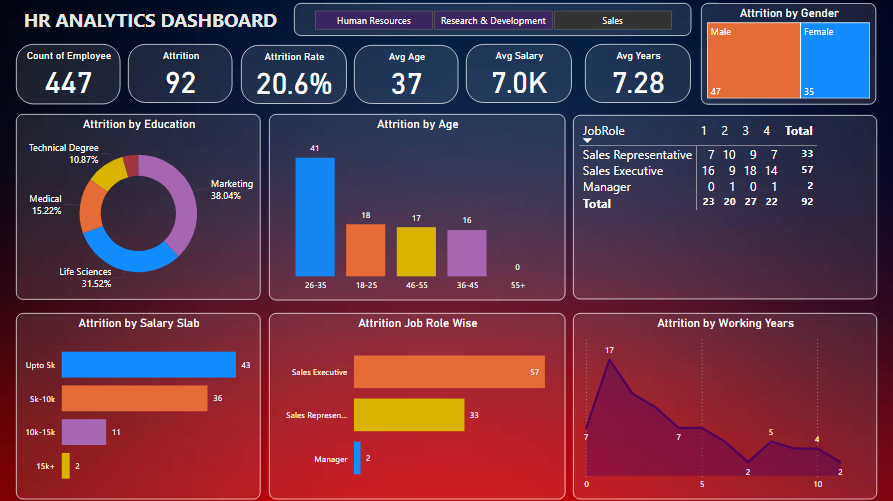

The page's visual inventory and layout, read from the dashboard file:
{"tool":"powerbi","page":{"name":"Page 1","canvas":[1280,720],"ordinal":0},"visuals":[{"type":"card","title":"Count of Employee","fields":{"Values":["CountNonNull(HR_Analytics.EmpID)"]},"box":[28.1,63.6,149.5,85.8],"z":0},{"type":"card","title":"Attrition","fields":{"Values":["Sum(HR_Analytics.AttritionCount)"]},"box":[187.9,63.6,149.5,84.3],"z":1000},{"type":"card","title":"Attrition Rate","fields":{"Values":["HR_Analytics.AttritionRate"]},"box":[349.2,65.1,150.9,84.3],"z":2000},{"type":"card","title":"Avg Age","fields":{"Values":["Avg(HR_Analytics.Age)"]},"box":[510.5,65.1,149.5,84.3],"z":3000},{"type":"card","title":"Avg Salary","fields":{"Values":["Avg(HR_Analytics.MonthlyIncome)"]},"box":[670.3,63.6,150.9,84.3],"z":4000},{"type":"card","title":"Avg Years","fields":{"Values":["Avg(HR_Analytics.YearsAtCompany)"]},"box":[840.5,63.6,150.9,84.3],"z":5000},{"type":"donutChart","title":"Attrition by Education","fields":{"Y":["Sum(HR_Analytics.AttritionCount)"],"Category":["HR_Analytics.EducationField"]},"box":[28.1,164.3,349.2,264.9],"z":6000},{"type":"columnChart","title":"Attrition by Age","fields":{"Category":["HR_Analytics.AgeGroup"],"Y":["Sum(HR_Analytics.AttritionCount)"]},"box":[389.5,163.8,422.5,265.6],"z":7000},{"type":"pivotTable","fields":{"Rows":["HR_Analytics.JobRole"],"Columns":["HR_Analytics.JobSatisfaction"],"Values":["Sum(HR_Analytics.AttritionCount)"]},"box":[822.8,165.7,433.6,263.4],"z":8000},{"type":"barChart","title":"Attrition by Salary Slab","fields":{"Category":["HR_Analytics.SalarySlab"],"Y":["Sum(HR_Analytics.AttritionCount)"]},"box":[28.1,448.4,349.2,266.4],"z":9000},{"type":"barChart","title":"Attrition Job Role Wise","fields":{"Category":["HR_Analytics.JobRole"],"Y":["Sum(HR_Analytics.AttritionCount)"]},"box":[389.2,448.4,423.2,266.4],"z":10000},{"type":"areaChart","title":"Attrition by Working Years","fields":{"Category":["HR_Analytics.YearsAtCompany"],"Y":["Sum(HR_Analytics.AttritionCount)"]},"box":[822.8,448.4,433.6,266.4],"z":11000},{"type":"treemap","title":"Attrition by Gender","fields":{"Group":["HR_Analytics.Gender"],"Values":["Sum(HR_Analytics.AttritionCount)"]},"box":[1006.2,5.9,250.1,145],"z":12000},{"type":"slicer","fields":{"Values":["HR_Analytics.Department"]},"box":[424.7,5.9,566.8,47.4],"z":13000},{"type":"textbox","box":[28.1,5.9,383.3,47.4],"z":14000}]}

Visuals, with their boxes in screenshot pixels (x1, y1, x2, y2), scaled from the page's 1280x720 canvas onto the 893x501 screenshot:
"Count of Employee" card: bbox=[20, 44, 124, 104]
"Attrition" card: bbox=[131, 44, 235, 103]
"Attrition Rate" card: bbox=[244, 45, 349, 104]
"Avg Age" card: bbox=[356, 45, 460, 104]
"Avg Salary" card: bbox=[468, 44, 573, 103]
"Avg Years" card: bbox=[586, 44, 692, 103]
"Attrition by Education" donutChart: bbox=[20, 114, 263, 299]
"Attrition by Age" columnChart: bbox=[272, 114, 566, 299]
pivotTable - HR_Analytics.JobRole x HR_Analytics.JobSatisfaction: bbox=[574, 115, 877, 299]
"Attrition by Salary Slab" barChart: bbox=[20, 312, 263, 497]
"Attrition Job Role Wise" barChart: bbox=[272, 312, 567, 497]
"Attrition by Working Years" areaChart: bbox=[574, 312, 877, 497]
"Attrition by Gender" treemap: bbox=[702, 4, 876, 105]
slicer - HR_Analytics.Department: bbox=[296, 4, 692, 37]
textbox: bbox=[20, 4, 287, 37]
